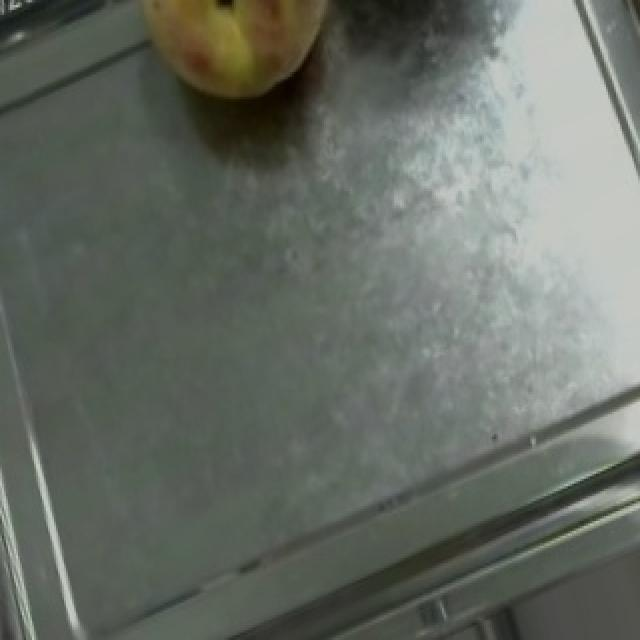Fruit: (96, 0, 364, 136)
